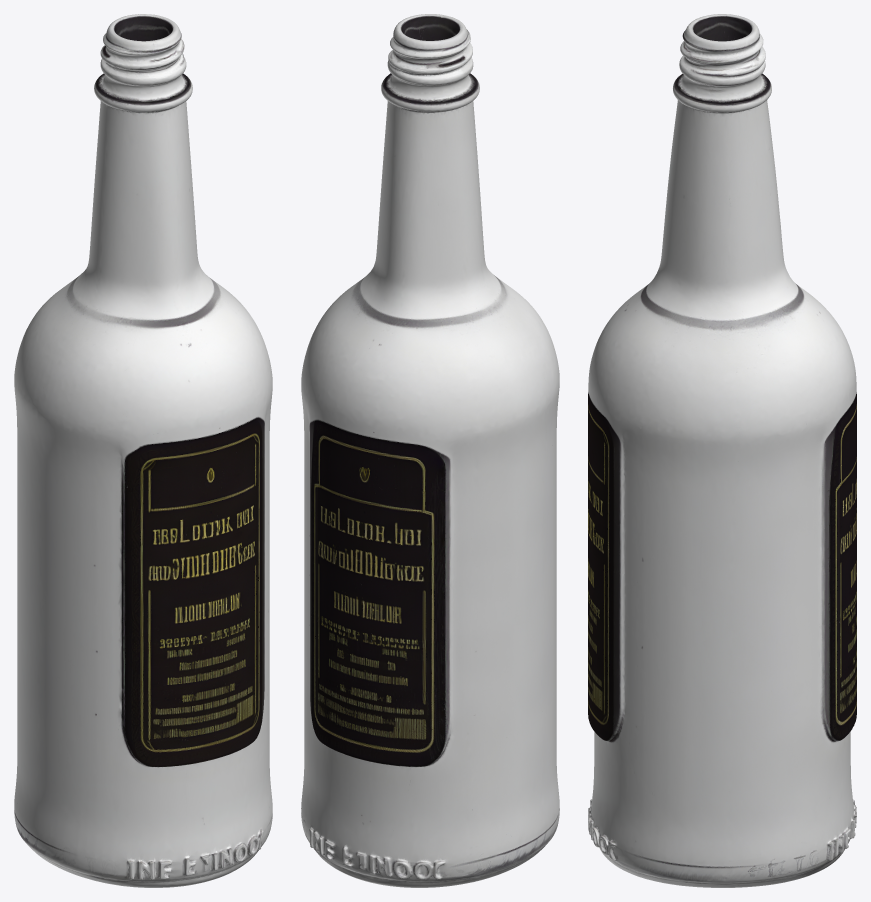
Rendered from Glass_Bottle_New.glb.
The picture shows the model from 3 angles, left to right: view 1: azimuth 30°, elevation 25°; view 2: azimuth 150°, elevation 25°; view 3: azimuth 270°, elevation 25°; orthographic projection.
Parts seen in each view (by area): view 1: Mesh_0.002; view 2: Mesh_0.002; view 3: Mesh_0.002.
Part boxes in pixels (x1,y1,x2,y2): Mesh_0.002: (14,14,272,887); Mesh_0.002: (301,14,559,887); Mesh_0.002: (588,14,856,887).
Bounding box in the file's own units: 0.0801 × 0.28 × 0.0836.
1 material, 1 textured.
